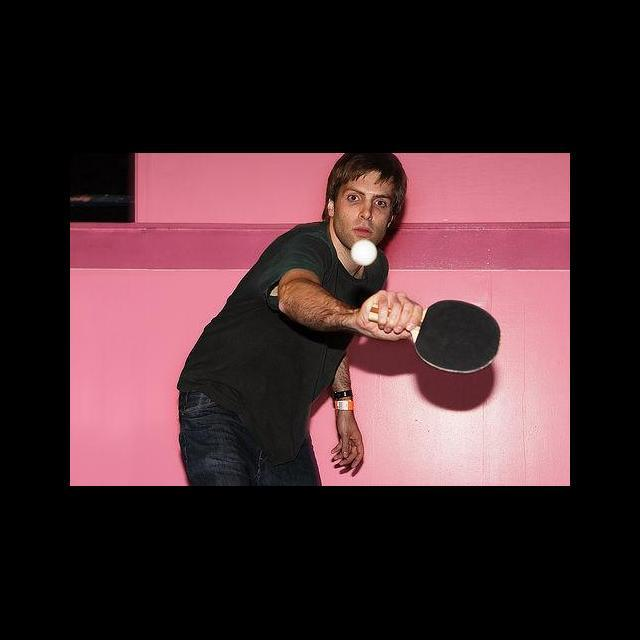ping-pong-ball: (351, 240, 378, 266)
